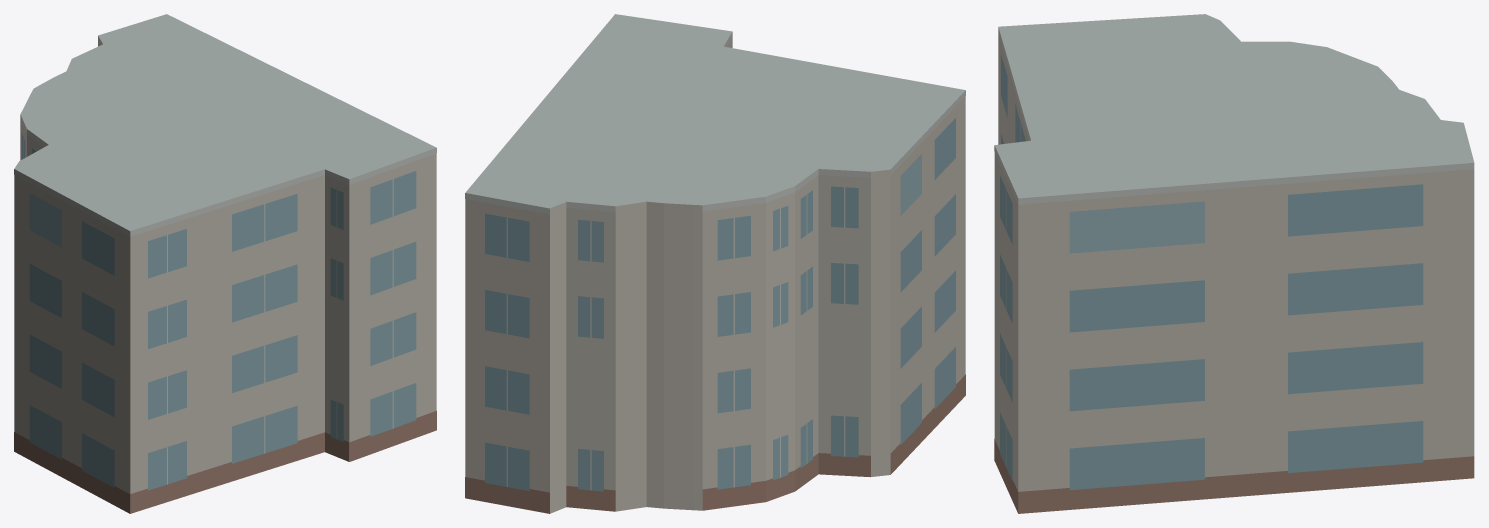
File: survey-upis-32658399.glb
3 renders of one model, left to right at view 1: azimuth 30°, elevation 25°; view 2: azimuth 150°, elevation 25°; view 3: azimuth 270°, elevation 25°, orthographic. The views are drawn at different scales.
Visible parts, largest first — view 1: survey-upis-32658399.tmp; view 2: survey-upis-32658399.tmp; view 3: survey-upis-32658399.tmp.
Part boxes in pixels (box(x1,y1,x2,y2)): survey-upis-32658399.tmp: box(14, 14, 436, 513); survey-upis-32658399.tmp: box(465, 14, 965, 513); survey-upis-32658399.tmp: box(994, 14, 1474, 513).
Bounding box in the file's own units: 15.31 × 12.2 × 16.83.
